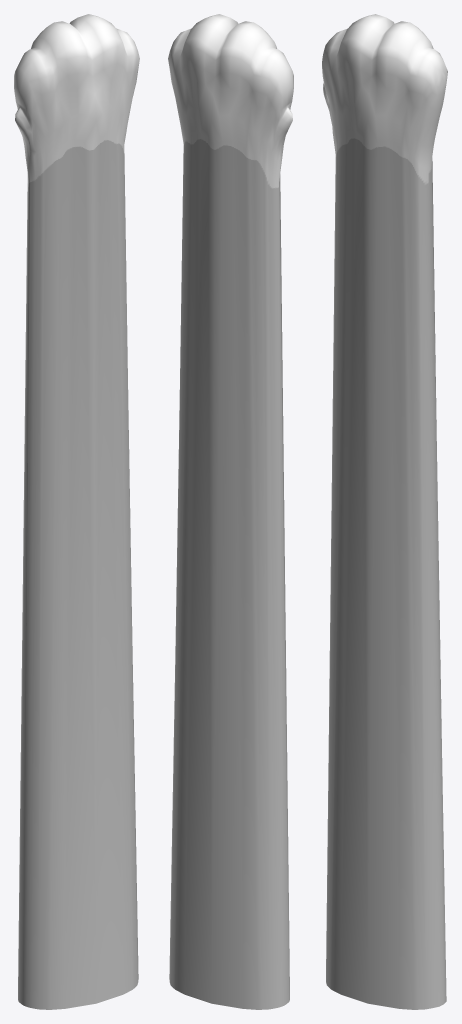
File: long-paw.FBX
3 renders of one model, left to right at view 1: azimuth 30°, elevation 25°; view 2: azimuth 150°, elevation 25°; view 3: azimuth 330°, elevation 25°, orthographic.
Visible parts, largest first — view 1: Long Paw; view 2: Long Paw; view 3: Long Paw.
Boxes of the visible parts, left/top/right/bottom form: Long Paw: left=14, top=14, right=139, bottom=1009; Long Paw: left=168, top=14, right=293, bottom=1009; Long Paw: left=322, top=14, right=447, bottom=1009.
Size of the model in its own units: 85.63 by 655 by 45.13.
